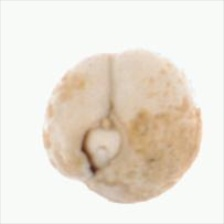L3: (78, 115, 124, 174)
L4: (43, 49, 202, 205)
